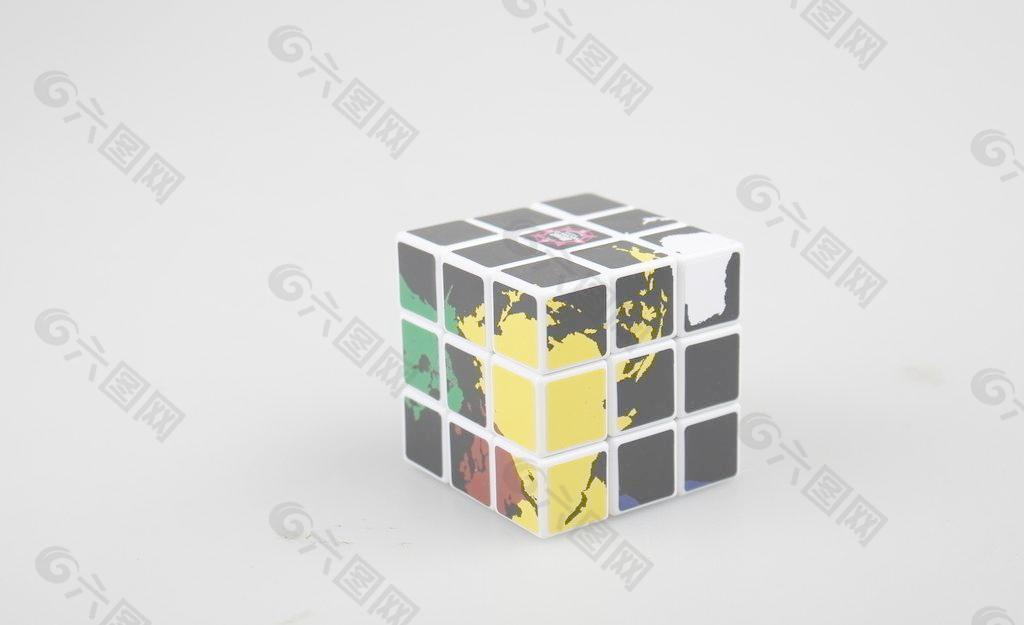cube: (387, 178, 765, 542)
